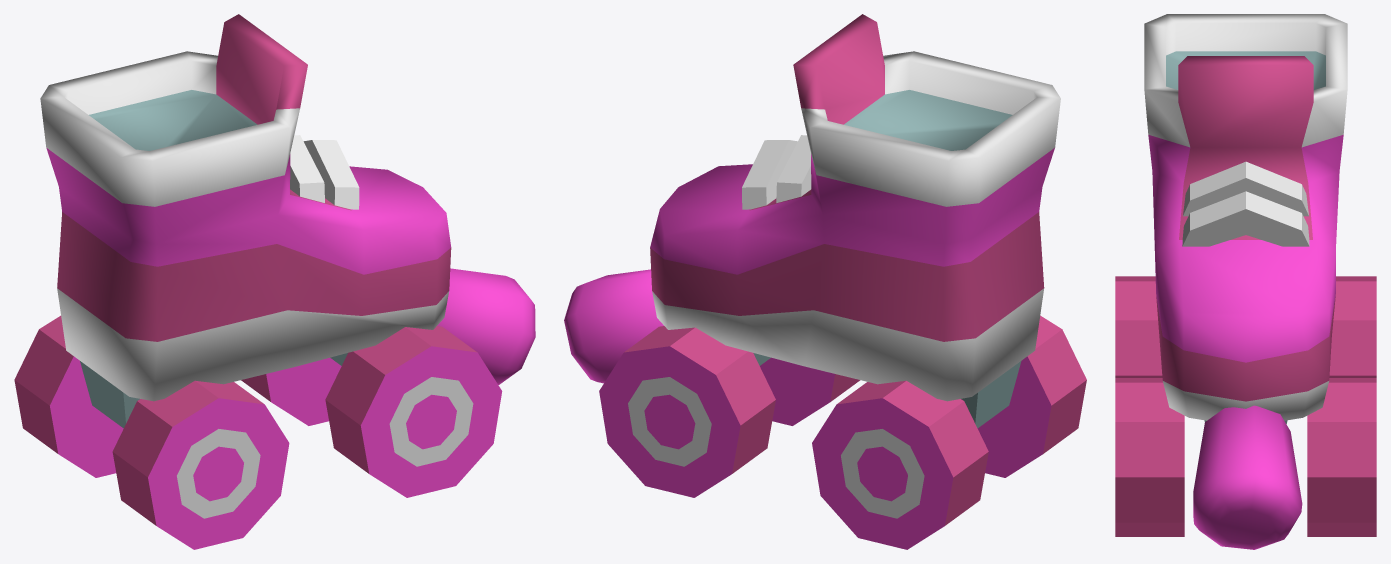
File: paten.fbx
3 views of the same model, side by side, from view 1: azimuth 30°, elevation 25°; view 2: azimuth 150°, elevation 25°; view 3: azimuth 270°, elevation 25° (orthographic). The views are drawn at different scales.
Parts seen in each view (by area): view 1: paten; view 2: paten; view 3: paten.
Boxes of the visible parts, left/top/right/bottom form: paten: left=14, top=14, right=535, bottom=549; paten: left=564, top=14, right=1086, bottom=549; paten: left=1115, top=14, right=1376, bottom=549.
Size of the model in its own units: 251 by 229 by 130.
